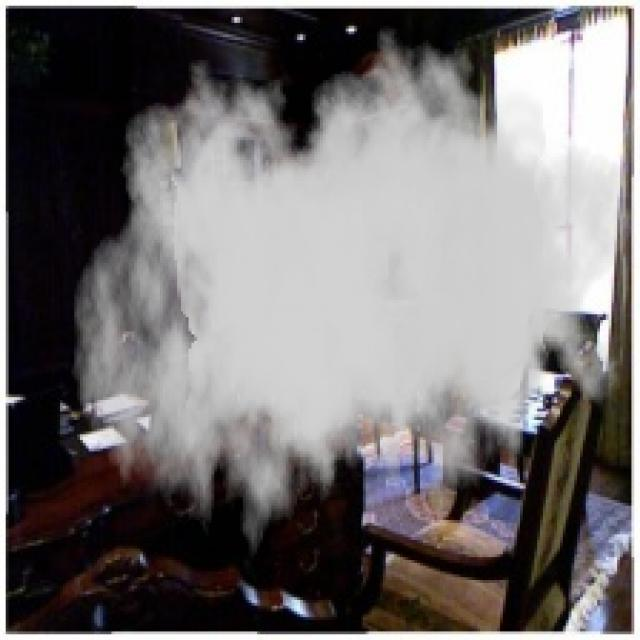Smoke: (71, 17, 634, 580)
